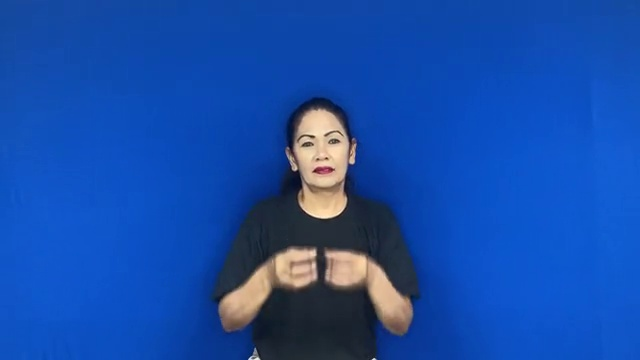egg: (264, 240, 377, 297)
